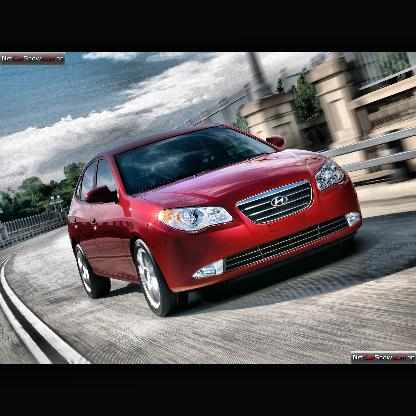Hyundai Elantra Sedan 2007: (69, 125, 364, 319)
